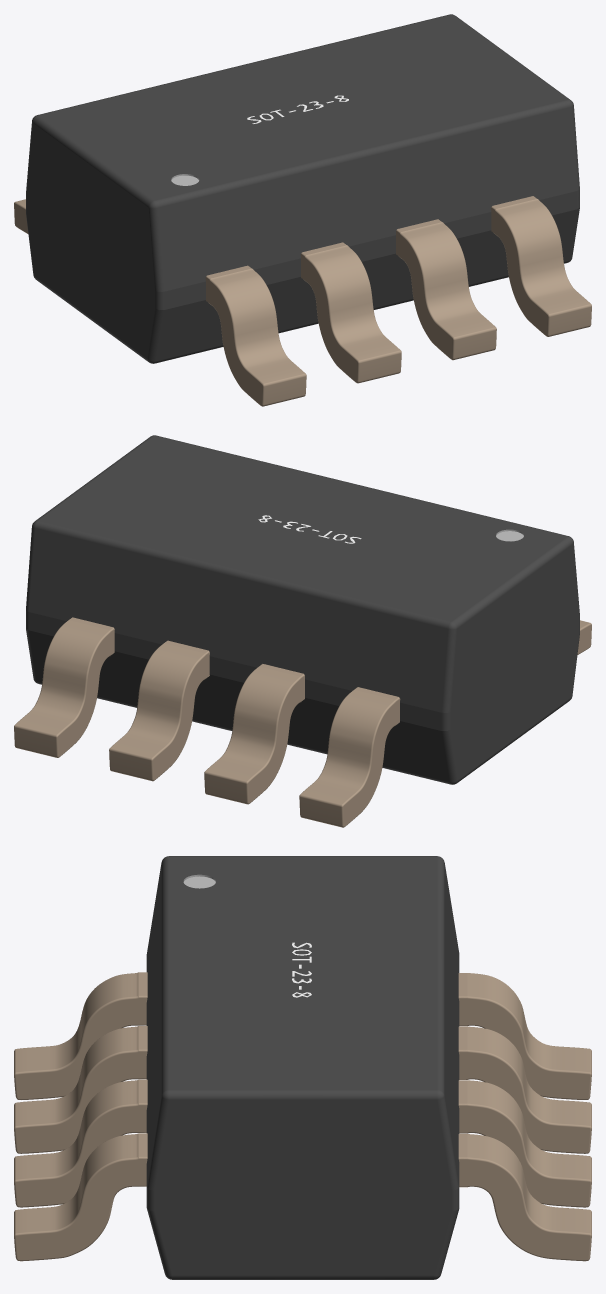
Rendered from SOT23-8.glb.
3 renders of one model, top to bottom at view 1: azimuth 30°, elevation 25°; view 2: azimuth 150°, elevation 25°; view 3: azimuth 270°, elevation 25°, orthographic. The views are drawn at different scales.
Parts seen in each view (by area): view 1: ABF547EA-DAAE-4750-A056-81AB79A3930D; view 2: ABF547EA-DAAE-4750-A056-81AB79A3930D; view 3: ABF547EA-DAAE-4750-A056-81AB79A3930D.
Boxes of the visible parts, bbox=[...] form: ABF547EA-DAAE-4750-A056-81AB79A3930D: bbox=[14, 14, 591, 406]; ABF547EA-DAAE-4750-A056-81AB79A3930D: bbox=[14, 435, 591, 827]; ABF547EA-DAAE-4750-A056-81AB79A3930D: bbox=[14, 856, 591, 1279].
Size of the model in its own units: 0.0029 by 0.00111 by 0.00296.
